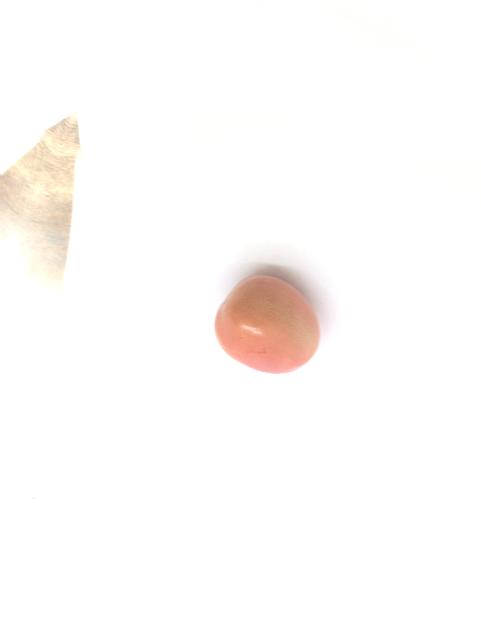turning: (209, 268, 328, 380)
